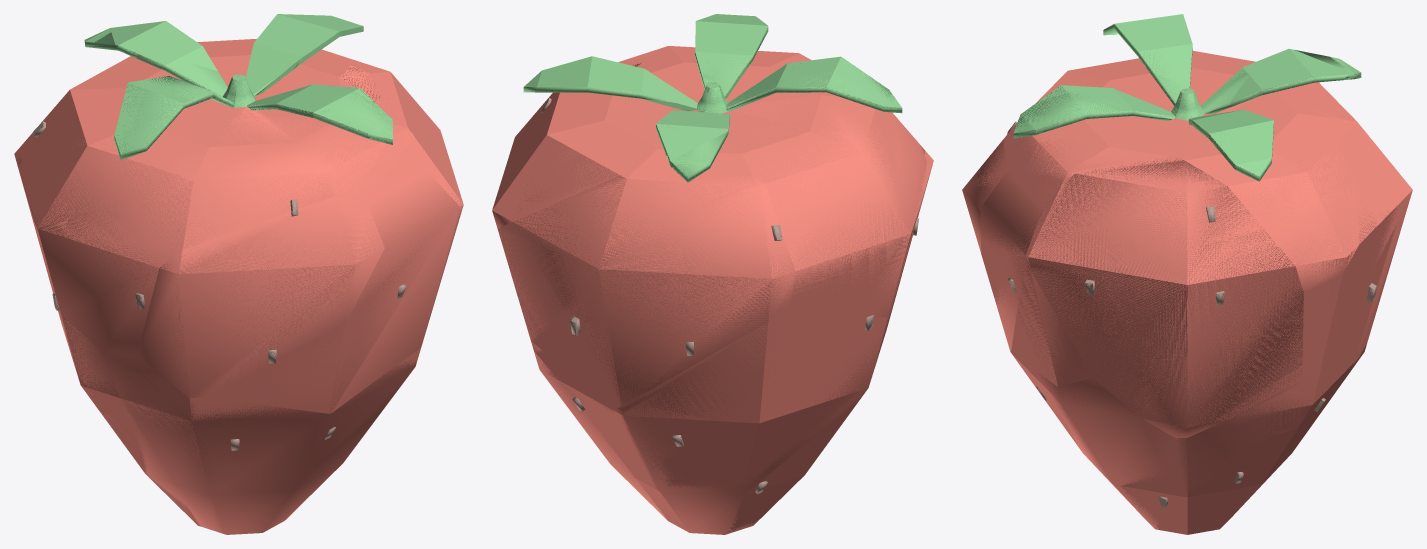
File: strawberry_fractured.fbx
The picture shows the model from 3 angles, left to right: view 1: azimuth 30°, elevation 25°; view 2: azimuth 150°, elevation 25°; view 3: azimuth 270°, elevation 25°; orthographic projection. The views are drawn at different scales.
Parts seen in each view (by area): view 1: Circle.004_Circle.002, Circle.004_Circle.002_shard.009, Circle.004_Circle.002_shard.008, Circle.004_Circle.002_shard, Circle.004_Circle.002_shard.001, Circle.004_Circle.002_shard.006, Circle.004_Circle.002_shard.007; view 2: Circle.004_Circle.002, Circle.004_Circle.002_shard.004, Circle.004_Circle.002_shard.009, Circle.004_Circle.002_shard.006, Circle.004_Circle.002_shard.002, Circle.004_Circle.002_shard.005; view 3: Circle.004_Circle.002, Circle.004_Circle.002_shard.007, Circle.004_Circle.002_shard.002, Circle.004_Circle.002_shard.009, Circle.004_Circle.002_shard, Circle.004_Circle.002_shard.001, Circle.004_Circle.002_shard.005, Circle.004_Circle.002_shard.004, Circle.004_Circle.002_shard.008.
Boxes of the visible parts, x1,y1,x2,y2 form: Circle.004_Circle.002: (14,14,463,526); Circle.004_Circle.002_shard.009: (19,54,426,355); Circle.004_Circle.002_shard.008: (137,196,384,398); Circle.004_Circle.002_shard: (103,352,416,534); Circle.004_Circle.002_shard.001: (216,171,459,413); Circle.004_Circle.002_shard.006: (53,293,213,530); Circle.004_Circle.002_shard.007: (340,65,463,219); Circle.004_Circle.002: (492,14,933,532); Circle.004_Circle.002_shard.004: (498,132,795,406); Circle.004_Circle.002_shard.009: (665,26,928,323); Circle.004_Circle.002_shard.006: (614,304,886,534); Circle.004_Circle.002_shard.002: (492,87,728,228); Circle.004_Circle.002_shard.005: (534,351,668,521); Circle.004_Circle.002: (969,14,1412,534); Circle.004_Circle.002_shard.007: (1026,158,1303,438); Circle.004_Circle.002_shard.002: (1192,74,1359,293); Circle.004_Circle.002_shard.009: (1010,24,1252,208); Circle.004_Circle.002_shard: (1032,368,1175,529); Circle.004_Circle.002_shard.001: (980,171,1088,385); Circle.004_Circle.002_shard.005: (1175,379,1324,531); Circle.004_Circle.002_shard.004: (1276,49,1412,379); Circle.004_Circle.002_shard.008: (962,128,1010,253).
Size of the model in its own units: 874 by 997 by 874.
